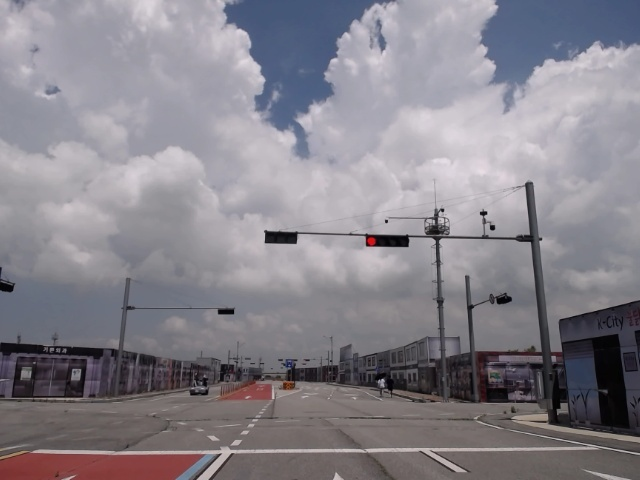red_4: (366, 235, 409, 247)
